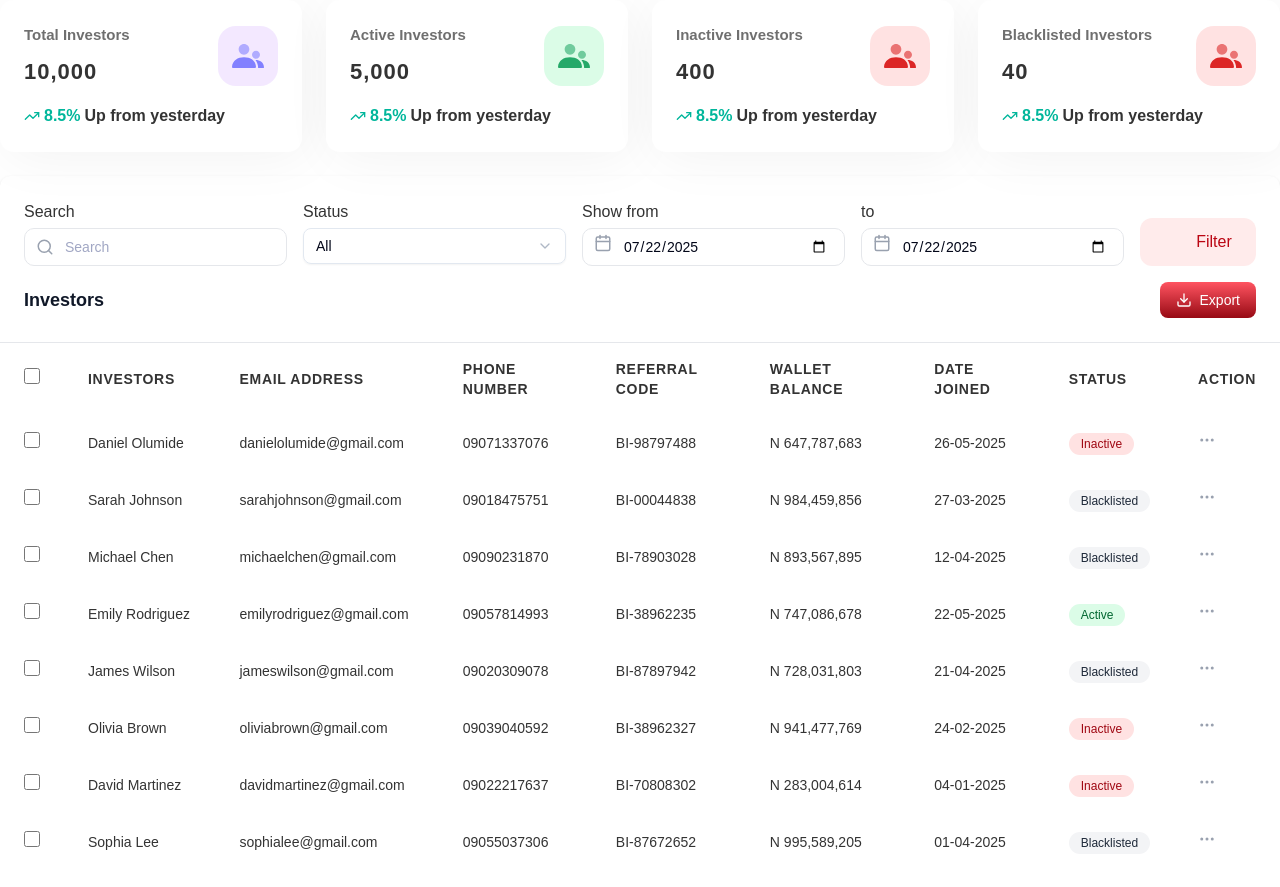
Test case: Investors Page › Investor Actions › opens action dropdown when more options button is clicked
Click the button without text in the row of "Daniel Olumide" at {"x": 1207, "y": 440}, box [1198,430,1216,448]
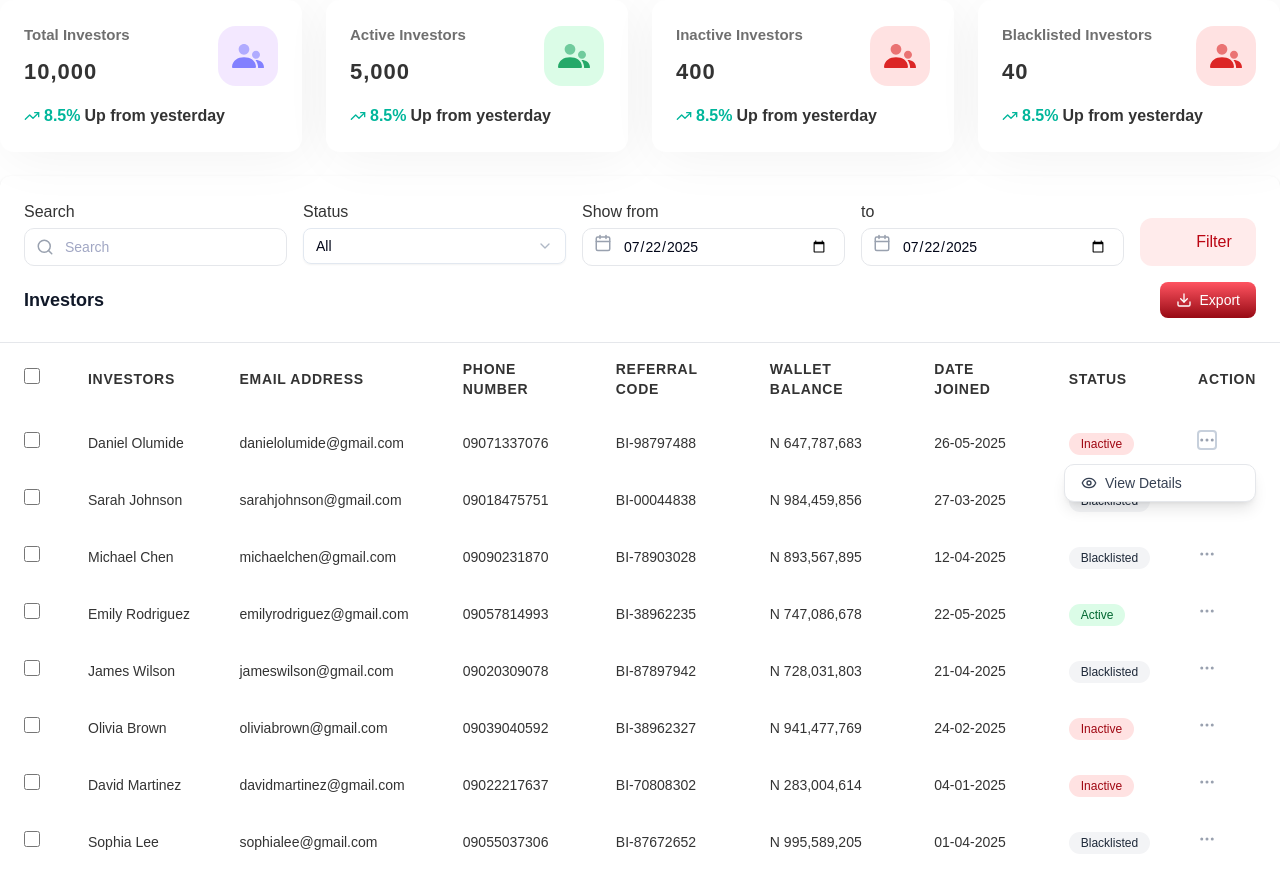
Expected: the button "View Details" is shown, [1065,464,1255,500]
